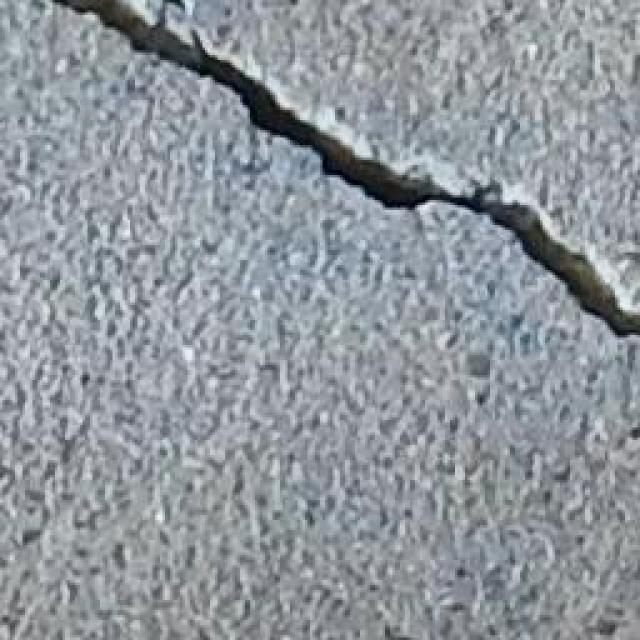concrete-crack: (46, 2, 640, 345)
